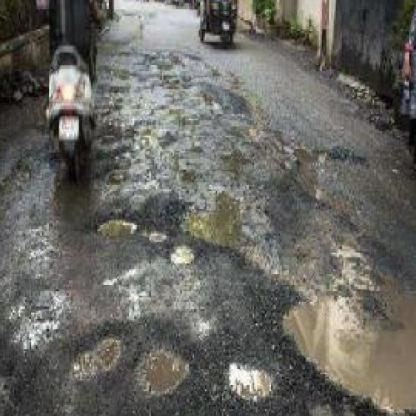pothole: (177, 179, 276, 264), (70, 325, 128, 383), (133, 339, 193, 392), (227, 357, 276, 398), (94, 211, 139, 239), (168, 240, 196, 266), (147, 230, 170, 243)
